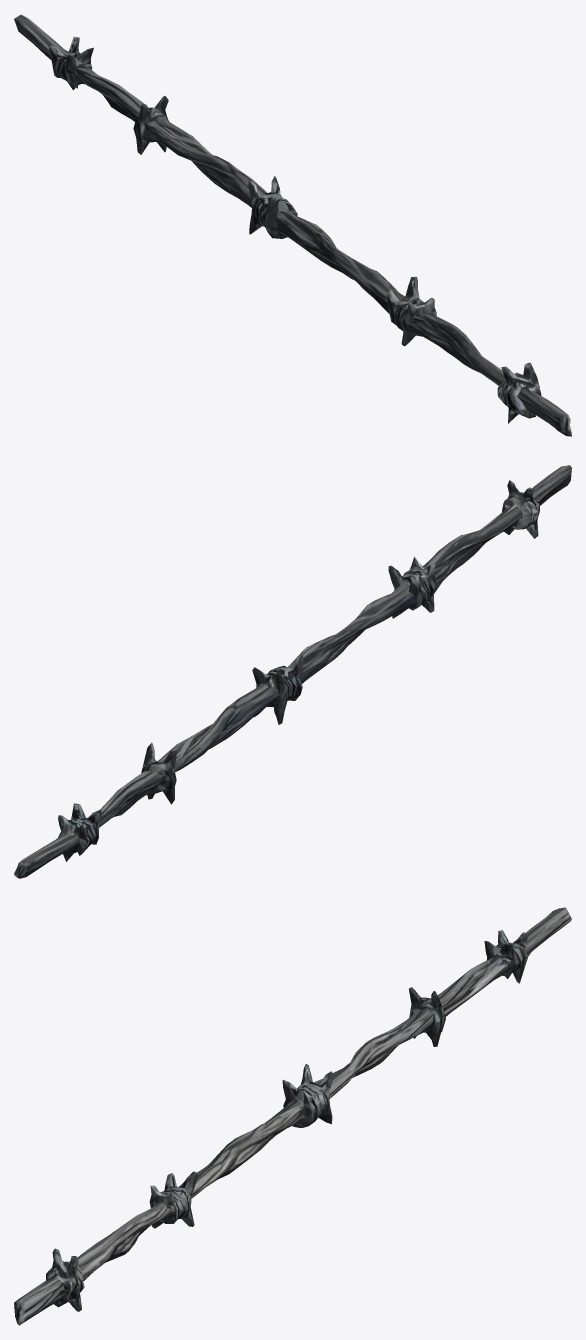
File: Wire.glb
3 renders of one model, top to bottom at view 1: azimuth 30°, elevation 25°; view 2: azimuth 150°, elevation 25°; view 3: azimuth 330°, elevation 25°, orthographic.
Parts seen in each view (by area): view 1: tripo_node_0e024938-b910-46c8-a6ab-814e8136bf4b; view 2: tripo_node_0e024938-b910-46c8-a6ab-814e8136bf4b; view 3: tripo_node_0e024938-b910-46c8-a6ab-814e8136bf4b.
Boxes of the visible parts, <box> form: tripo_node_0e024938-b910-46c8-a6ab-814e8136bf4b: <box>14,14,571,436</box>; tripo_node_0e024938-b910-46c8-a6ab-814e8136bf4b: <box>14,465,571,878</box>; tripo_node_0e024938-b910-46c8-a6ab-814e8136bf4b: <box>14,907,571,1325</box>.
Size of the model in its own units: 0.0362 by 0.0571 by 0.9995.
Materials: 1 (1 with a texture image).
